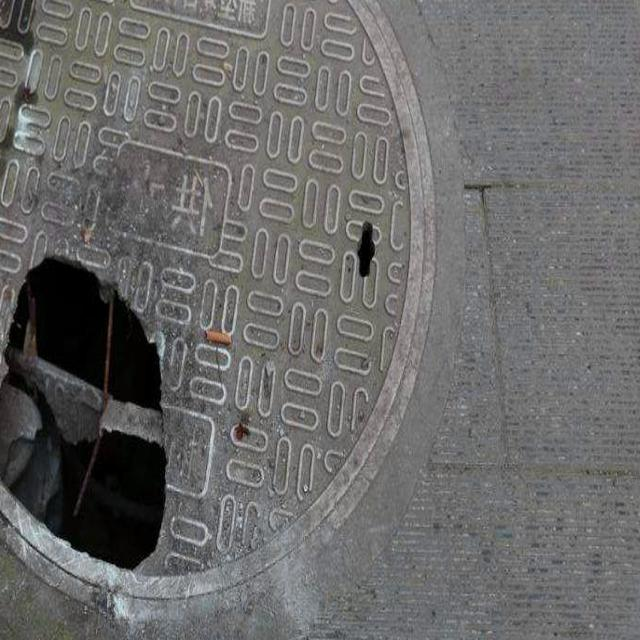broke: (0, 0, 437, 602)
